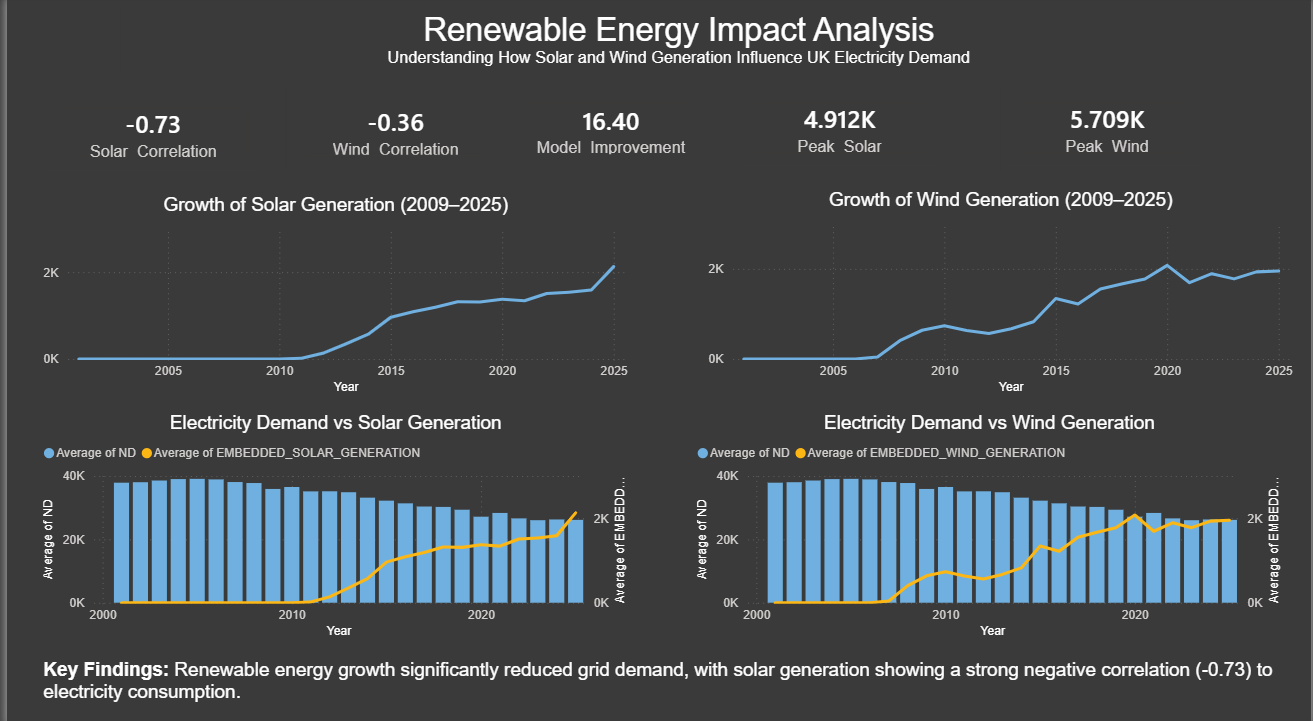

The page's visual inventory and layout, read from the dashboard file:
{"tool":"powerbi","page":{"name":"Renewable Energy Impact Analysis","canvas":[1280,720],"ordinal":2},"visuals":[{"type":"textbox","box":[111.7,11,1095.7,65],"z":0},{"type":"cardVisual","fields":{"Data":["KPI_Table.Solar_Correlation"]},"box":[30.7,93.3,224.5,83.4],"z":1000},{"type":"cardVisual","fields":{"Data":["KPI_Table.Wind_Correlation"]},"box":[273.6,90.8,214.7,83.4],"z":2000},{"type":"cardVisual","fields":{"Data":["KPI_Table.Model_Improvement"]},"box":[488.3,88.3,207.4,85.9],"z":3000},{"type":"cardVisual","fields":{"Data":["KPI_Table.Peak_Solar"]},"box":[712.9,88.3,207.4,83.4],"z":4000},{"type":"cardVisual","fields":{"Data":["KPI_Table.Peak_Wind"]},"box":[975.5,88.3,207.4,83.4],"z":5000},{"type":"lineChart","title":"Growth of Solar Generation (2009–2025)","fields":{"Category":["energy_features_v3.SETTLEMENT_DATE.Variation.Date Hierarchy.Year","energy_features_v3.SETTLEMENT_DATE.Variation.Date Hierarchy.Quarter","energy_features_v3.SETTLEMENT_DATE.Variation.Date Hierarchy.Month","energy_features_v3.SETTLEMENT_DATE.Variation.Date Hierarchy.Day"],"Y":["Avg(energy_features_v3.EMBEDDED_SOLAR_GENERATION)"]},"box":[30.7,193.9,584.1,201.2],"z":6000},{"type":"lineChart","title":"Growth of Wind Generation (2009–2025)","fields":{"Category":["energy_features_v3.SETTLEMENT_DATE.Variation.Date Hierarchy.Year","energy_features_v3.SETTLEMENT_DATE.Variation.Date Hierarchy.Quarter","energy_features_v3.SETTLEMENT_DATE.Variation.Date Hierarchy.Month","energy_features_v3.SETTLEMENT_DATE.Variation.Date Hierarchy.Day"],"Y":["Avg(energy_features_v3.EMBEDDED_WIND_GENERATION)"]},"box":[683.4,189,584.1,206.1],"z":7000},{"type":"lineStackedColumnComboChart","title":"Electricity Demand vs Solar Generation","fields":{"Category":["energy_features_v3.SETTLEMENT_DATE.Variation.Date Hierarchy.Year","energy_features_v3.SETTLEMENT_DATE.Variation.Date Hierarchy.Quarter","energy_features_v3.SETTLEMENT_DATE.Variation.Date Hierarchy.Month","energy_features_v3.SETTLEMENT_DATE.Variation.Date Hierarchy.Day"],"Y":["Avg(energy_features_v3.ND)"],"Y2":["Avg(energy_features_v3.EMBEDDED_SOLAR_GENERATION)"]},"box":[30.7,408.6,584.1,225.8],"z":8000},{"type":"lineStackedColumnComboChart","title":"Electricity Demand vs Wind Generation","fields":{"Category":["energy_features_v3.SETTLEMENT_DATE.Variation.Date Hierarchy.Year","energy_features_v3.SETTLEMENT_DATE.Variation.Date Hierarchy.Quarter","energy_features_v3.SETTLEMENT_DATE.Variation.Date Hierarchy.Month","energy_features_v3.SETTLEMENT_DATE.Variation.Date Hierarchy.Day"],"Y":["Avg(energy_features_v3.ND)"],"Y2":["Avg(energy_features_v3.EMBEDDED_WIND_GENERATION)"]},"box":[672.4,408.6,584.1,225.8],"z":9000},{"type":"textbox","box":[30.7,645.4,1225.8,57.7],"z":10000}]}

Visuals, with their boxes in screenshot pixels (x1, y1, x2, y2), scaled from the page's 1280x720 canvas onto the 1313x721 screenshot:
textbox: <region>115, 11, 1239, 76</region>
cardVisual - KPI_Table.Solar_Correlation: <region>31, 93, 262, 177</region>
cardVisual - KPI_Table.Wind_Correlation: <region>281, 91, 501, 174</region>
cardVisual - KPI_Table.Model_Improvement: <region>501, 88, 714, 174</region>
cardVisual - KPI_Table.Peak_Solar: <region>731, 88, 944, 172</region>
cardVisual - KPI_Table.Peak_Wind: <region>1001, 88, 1213, 172</region>
"Growth of Solar Generation (2009–2025)" lineChart: <region>31, 194, 631, 396</region>
"Growth of Wind Generation (2009–2025)" lineChart: <region>701, 189, 1300, 396</region>
"Electricity Demand vs Solar Generation" lineStackedColumnComboChart: <region>31, 409, 631, 635</region>
"Electricity Demand vs Wind Generation" lineStackedColumnComboChart: <region>690, 409, 1289, 635</region>
textbox: <region>31, 646, 1289, 704</region>
